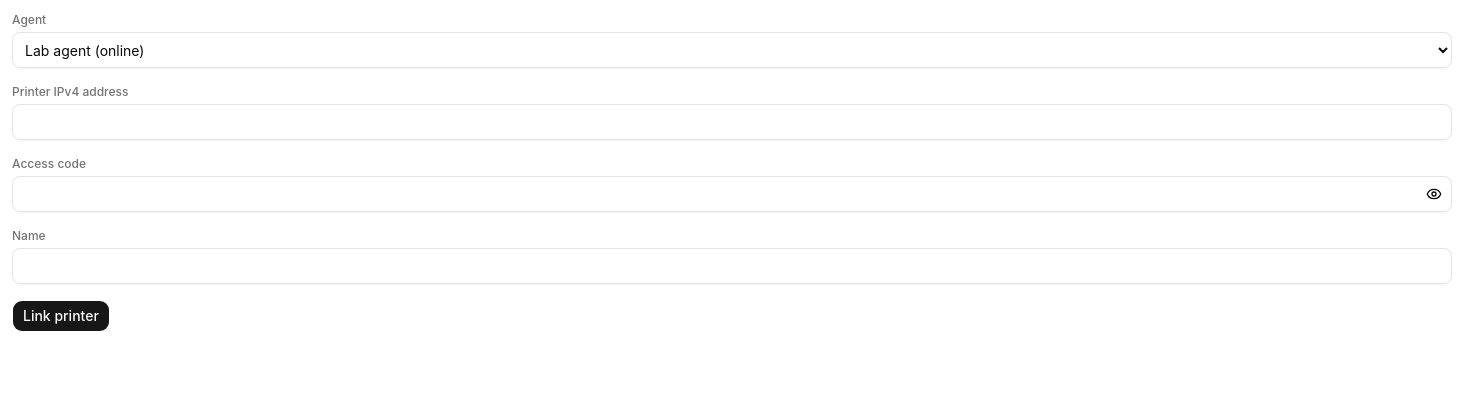
Test: LinkPrinterMachineForm › falls back to the raw error when the failure has no error code
Type "192.0.2.10" into the field labelled "Printer IPv4 address". click: [732, 122]
box: [12, 104, 1452, 140]
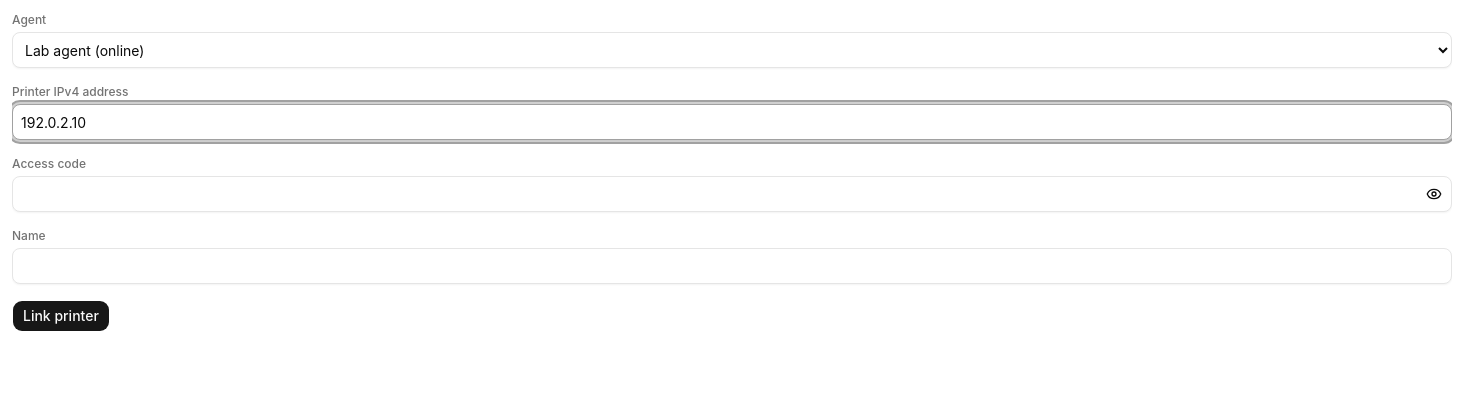
Type "SECRET-LINK-CODE" into the password field labelled "Access code". click: [732, 194]
box: [12, 176, 1452, 212]
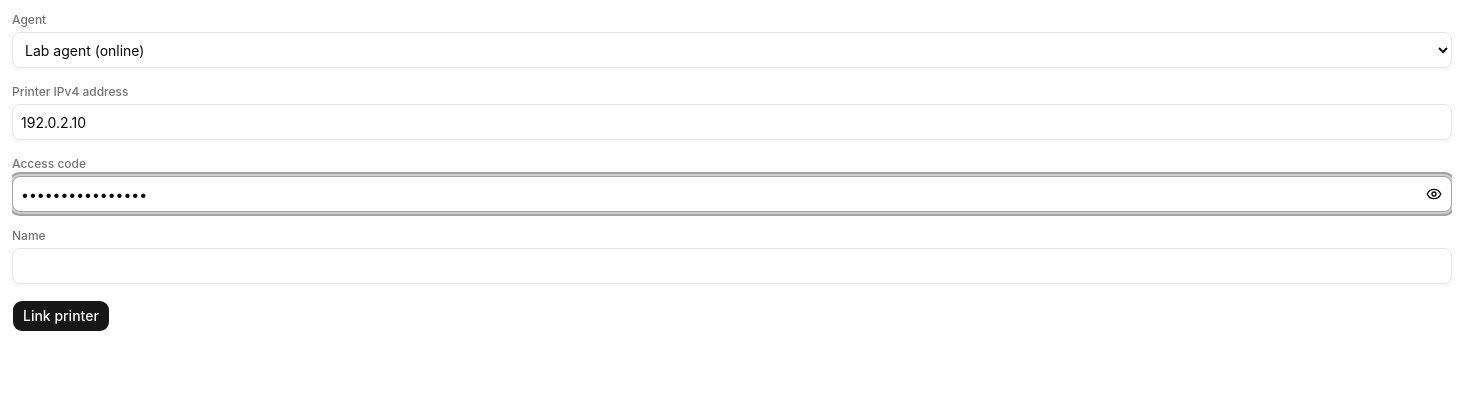
Click the button "Link printer". click: [61, 316]
box: [12, 300, 110, 332]
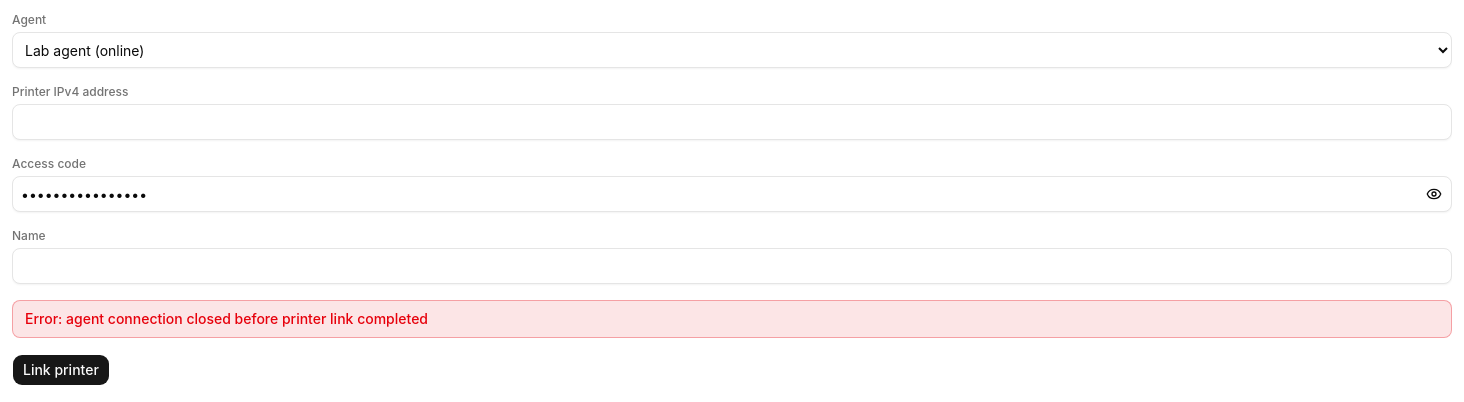
Expected: the text "Error: agent connection closed before printer link completed" is shown, [25, 310, 428, 327]
